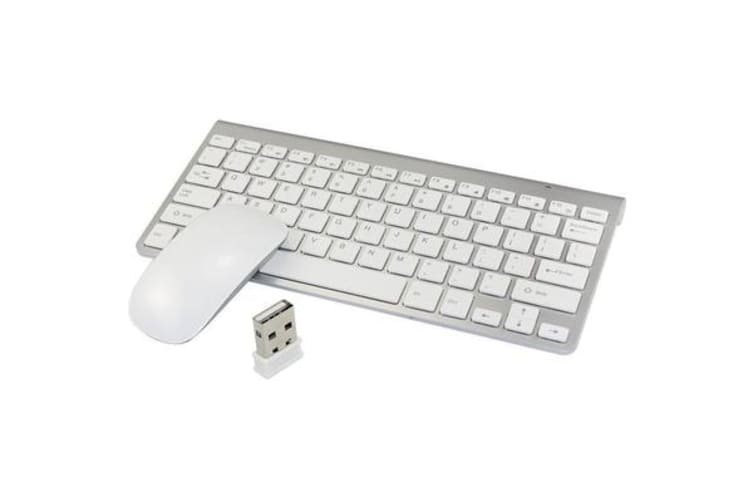keyboard: (121, 100, 643, 381)
mouse: (127, 191, 296, 370)
